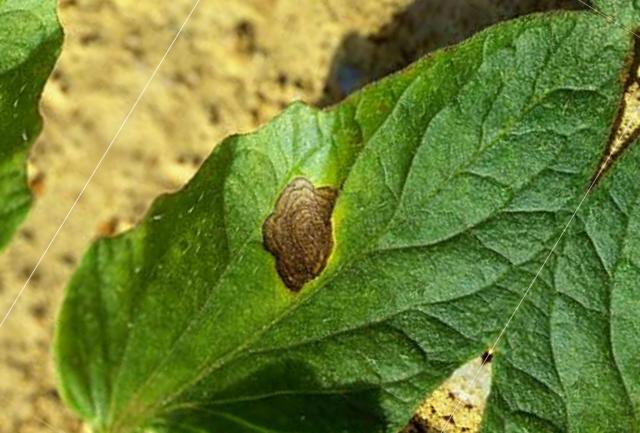Tomato Early blight leaf: (4, 0, 640, 433)
